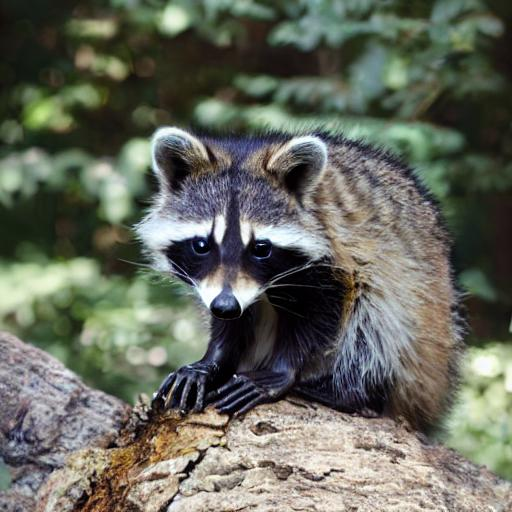raccoon: (125, 115, 478, 442)
